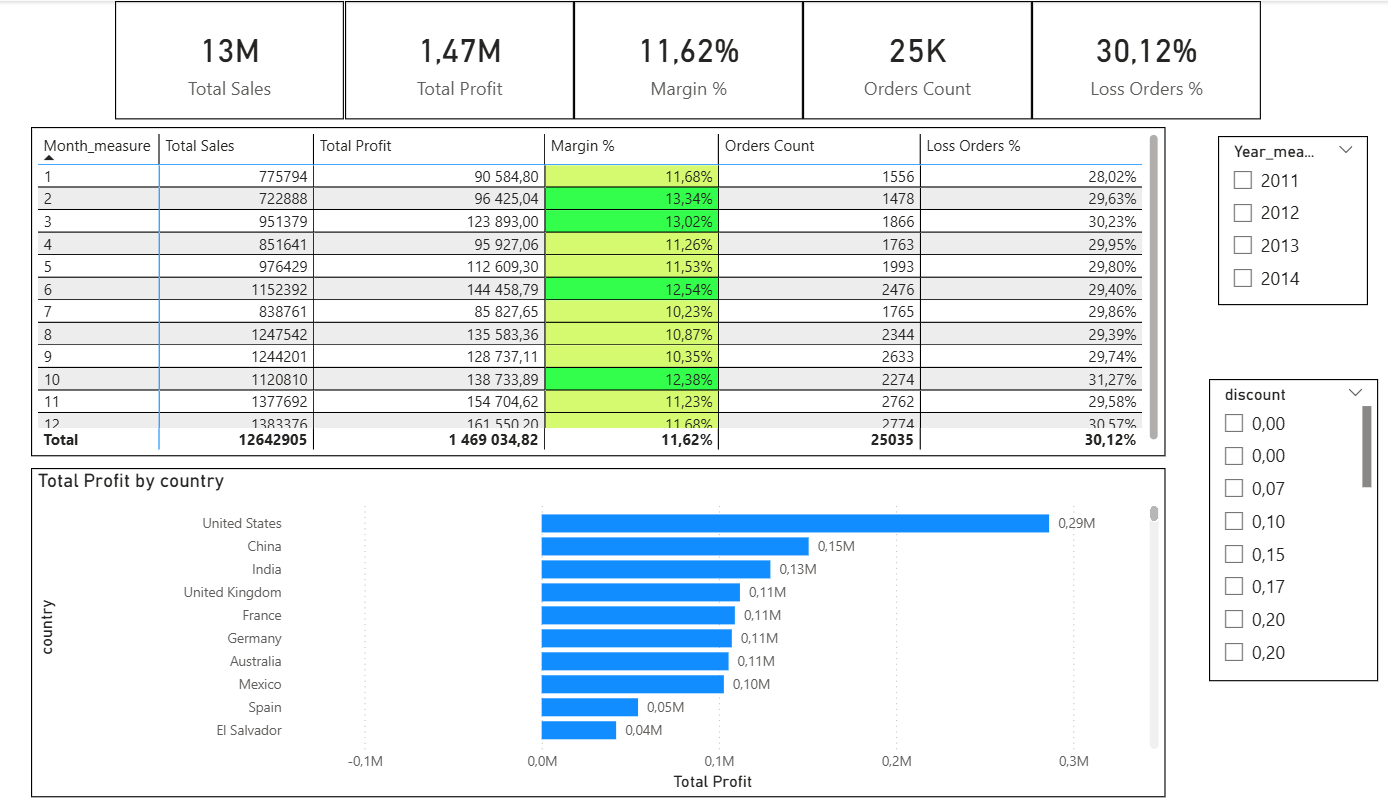

Layout of this report page (visuals, bound fields, positions):
{"tool":"powerbi","page":{"name":"Overview","canvas":[1280,720],"ordinal":0},"visuals":[{"type":"card","fields":{"Values":["orders_view.Total Sales"]},"box":[144,0,203.3,105],"z":0},{"type":"card","fields":{"Values":["orders_view.Total Profit"]},"box":[347.2,0,203.3,105],"z":1000},{"type":"card","fields":{"Values":["orders_view.Margin %"]},"box":[550.5,0,203.3,105],"z":2000},{"type":"card","fields":{"Values":["orders_view.Orders Count"]},"box":[753.8,0,203.3,105],"z":3000},{"type":"card","fields":{"Values":["orders_view.Loss Orders %"]},"box":[957.1,0,203.3,105],"z":4000},{"type":"slicer","fields":{"Values":["orders_view.Year_measure"]},"box":[1121.5,119.6,133.3,149.8],"z":5000},{"type":"pivotTable","fields":{"Rows":["orders_view.Month_measure"],"Values":["orders_view.Total Sales","orders_view.Total Profit","orders_view.Margin %","orders_view.Orders Count","orders_view.Loss Orders %"]},"box":[69.1,111.9,1005.7,291.8],"z":6000},{"type":"barChart","fields":{"Category":["orders_view.country"],"Y":["orders_view.Total Profit"]},"box":[69,414,1006,292],"z":7000},{"type":"slicer","fields":{"Values":["orders_view.discount"]},"box":[1113.7,335.6,149.8,268.4],"z":8000}]}

Visuals, with their boxes in screenshot pixels (x1, y1, x2, y2), scaled from the page's 1280x720 canvas onto the 1388x804 screenshot:
card - orders_view.Total Sales: select_region(156, 0, 377, 117)
card - orders_view.Total Profit: select_region(376, 0, 597, 117)
card - orders_view.Margin %: select_region(597, 0, 817, 117)
card - orders_view.Orders Count: select_region(817, 0, 1038, 117)
card - orders_view.Loss Orders %: select_region(1038, 0, 1258, 117)
slicer - orders_view.Year_measure: select_region(1216, 134, 1361, 301)
pivotTable - orders_view.Month_measure x orders_view.Total Sales: select_region(75, 125, 1165, 451)
barChart - orders_view.country x orders_view.Total Profit: select_region(75, 462, 1166, 788)
slicer - orders_view.discount: select_region(1208, 375, 1370, 674)
